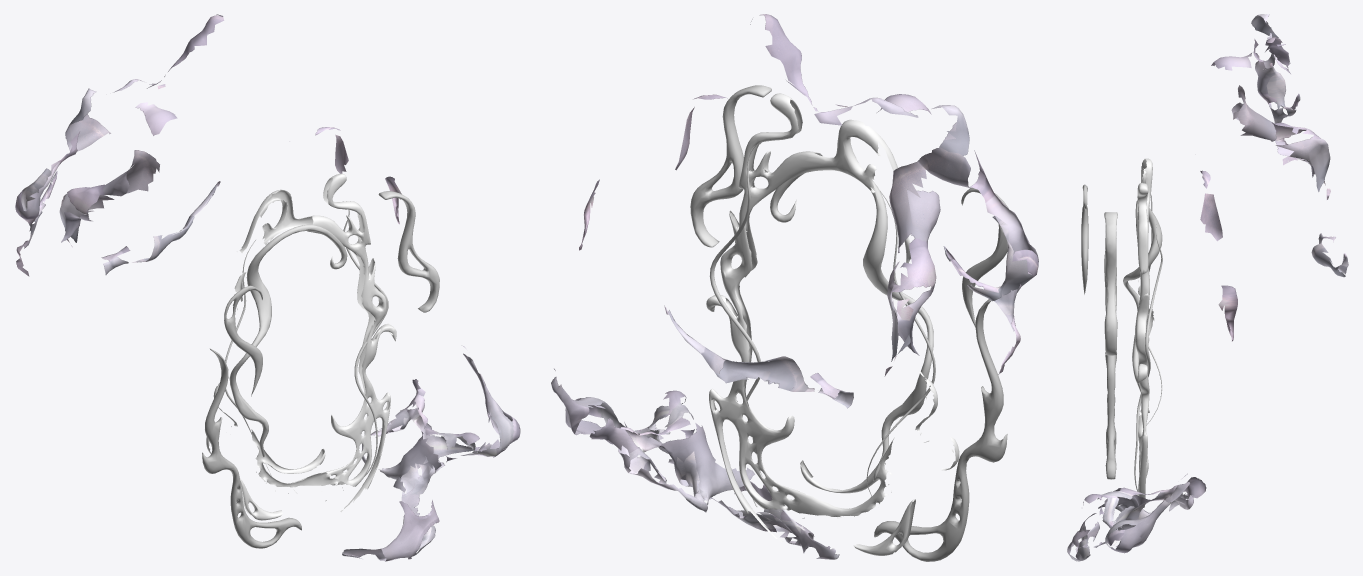
File: mirrorv2.fbx
3 views of the same model, side by side, from view 1: azimuth 30°, elevation 25°; view 2: azimuth 150°, elevation 25°; view 3: azimuth 270°, elevation 25° (orthographic). The views are drawn at different scales.
Parts seen in each view (by area): view 1: Mesh.002, 融球.028, 融球.030, Mesh.003, Mesh.005, Mesh.006, 贝塞尔曲线.015; view 2: 融球.028, Mesh.002, 融球.030, Mesh.003, Mesh.005, Mesh.006, 贝塞尔曲线.015; view 3: 融球.028, 融球.030, Mesh.002, Mesh.003, Mesh.006, Mesh.005, 贝塞尔曲线.015.
Part boxes in pixels (x1=…): Mesh.002: x1=206, y1=173, x2=396, y2=520; 融球.028: x1=15, y1=14, x2=401, y2=276; 融球.030: x1=342, y1=346, x2=520, y2=561; Mesh.003: x1=202, y1=285, x2=301, y2=548; Mesh.005: x1=229, y1=224, x2=347, y2=456; Mesh.006: x1=378, y1=191, x2=439, y2=312; 贝塞尔曲线.015: x1=225, y1=210, x2=388, y2=475; 融球.028: x1=579, y1=14, x2=1038, y2=408; Mesh.002: x1=706, y1=93, x2=959, y2=555; 融球.030: x1=551, y1=368, x2=839, y2=559; Mesh.003: x1=874, y1=187, x2=1008, y2=561; Mesh.005: x1=770, y1=173, x2=933, y2=480; Mesh.006: x1=690, y1=85, x2=771, y2=247; 贝塞尔曲线.015: x1=709, y1=144, x2=935, y2=507; 融球.028: x1=1200, y1=14, x2=1348, y2=341; 融球.030: x1=1067, y1=473, x2=1206, y2=561; Mesh.002: x1=1135, y1=158, x2=1154, y2=507; Mesh.003: x1=1081, y1=184, x2=1116, y2=479; Mesh.006: x1=1104, y1=212, x2=1117, y2=355; Mesh.005: x1=1123, y1=200, x2=1162, y2=412; 贝塞尔曲线.015: x1=1134, y1=195, x2=1162, y2=491.
Bounding box in the file's own units: 489 × 540 × 287.
